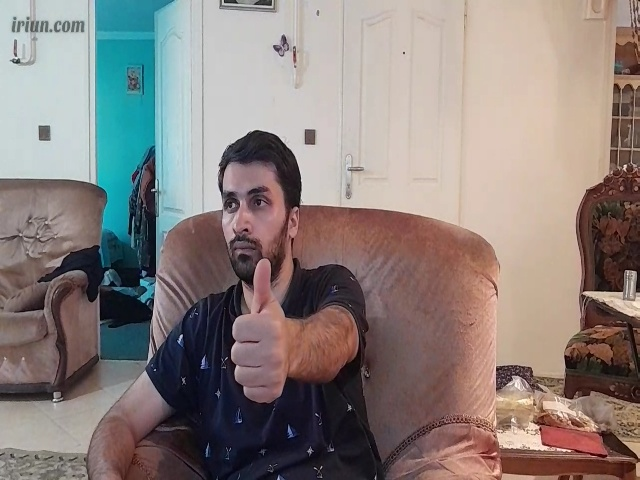ThumbsUp: (229, 260, 297, 411)
